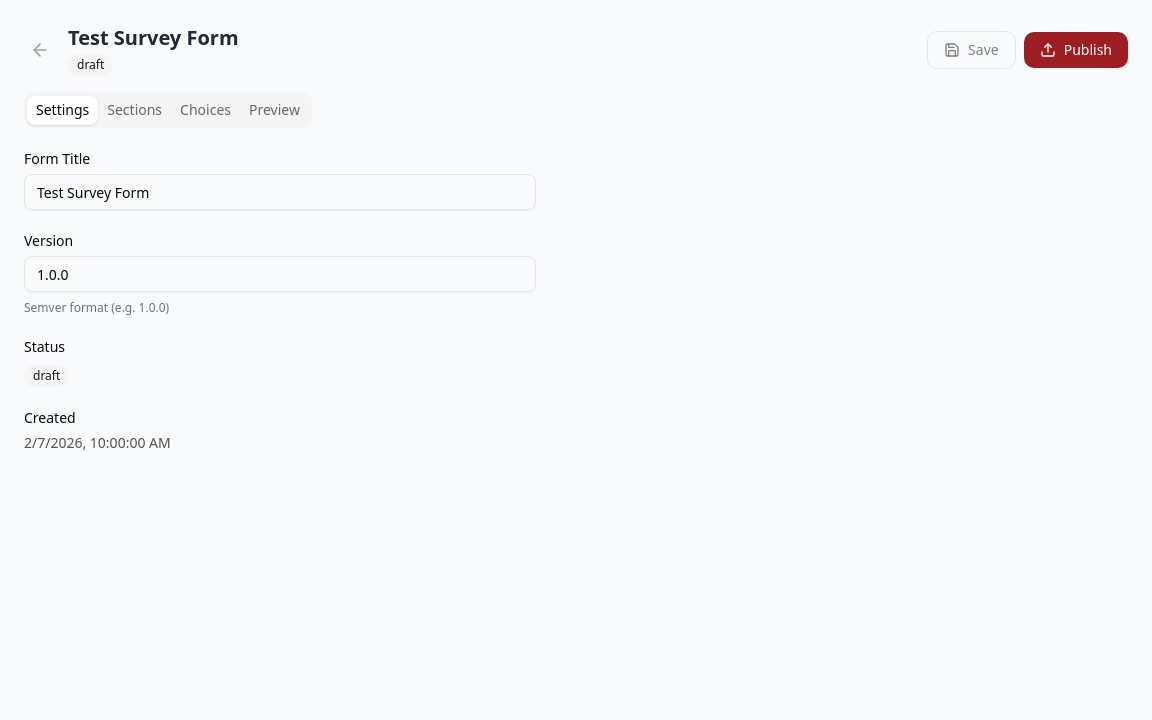
it: FormBuilderPage › Publish button shows confirmation dialog
Click the button "Publish": {"x": 1076, "y": 50} [1024,32,1128,68]
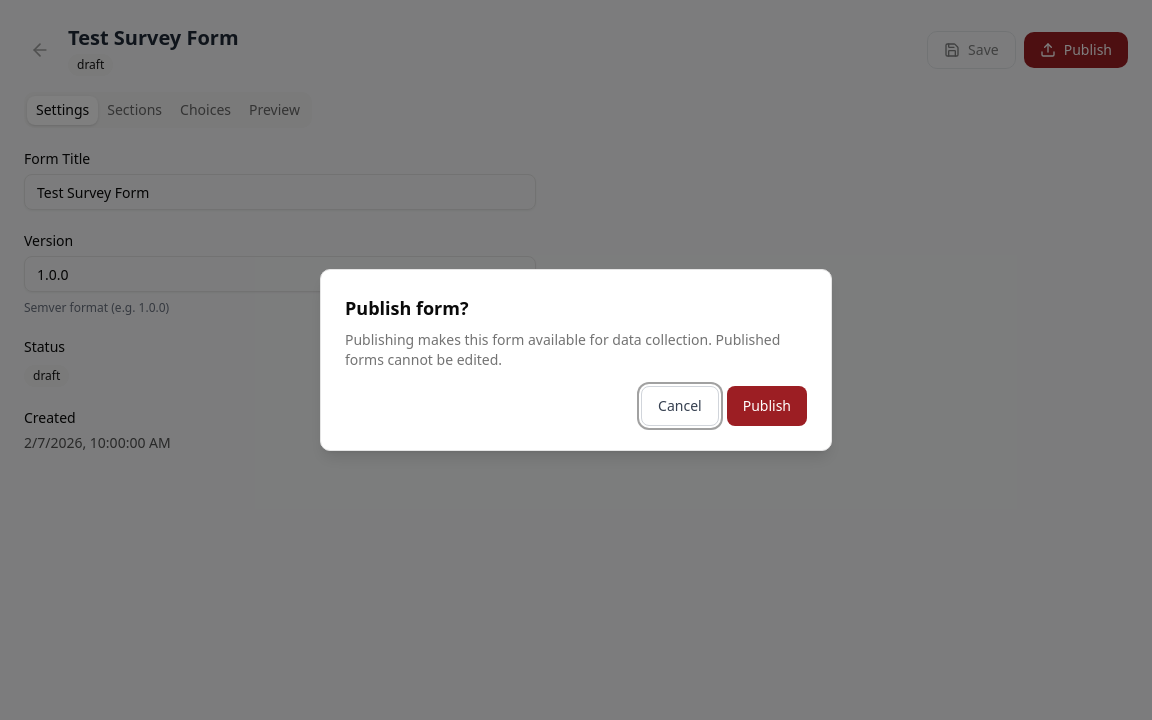
Check: the heading "Publish form?" is shown, box [345,296,468,320]
Check: the text "Published forms cannot be edited" is shown, box [345,330,780,369]
